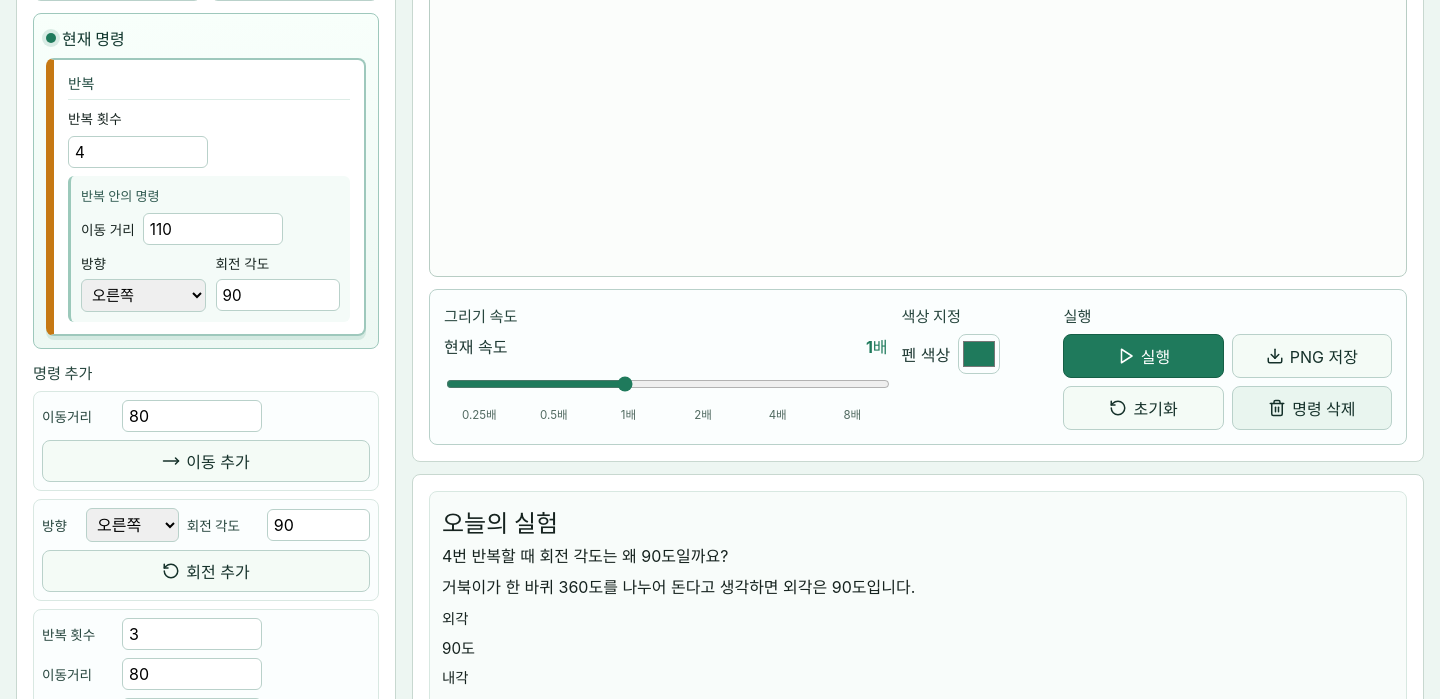
it: App › places the color command before drawing commands when the pen color changes
(page scrolled)
In the colour field labelled "펜 색상": (979, 354) 958,334 -> 1000,374, type "#d94f30"
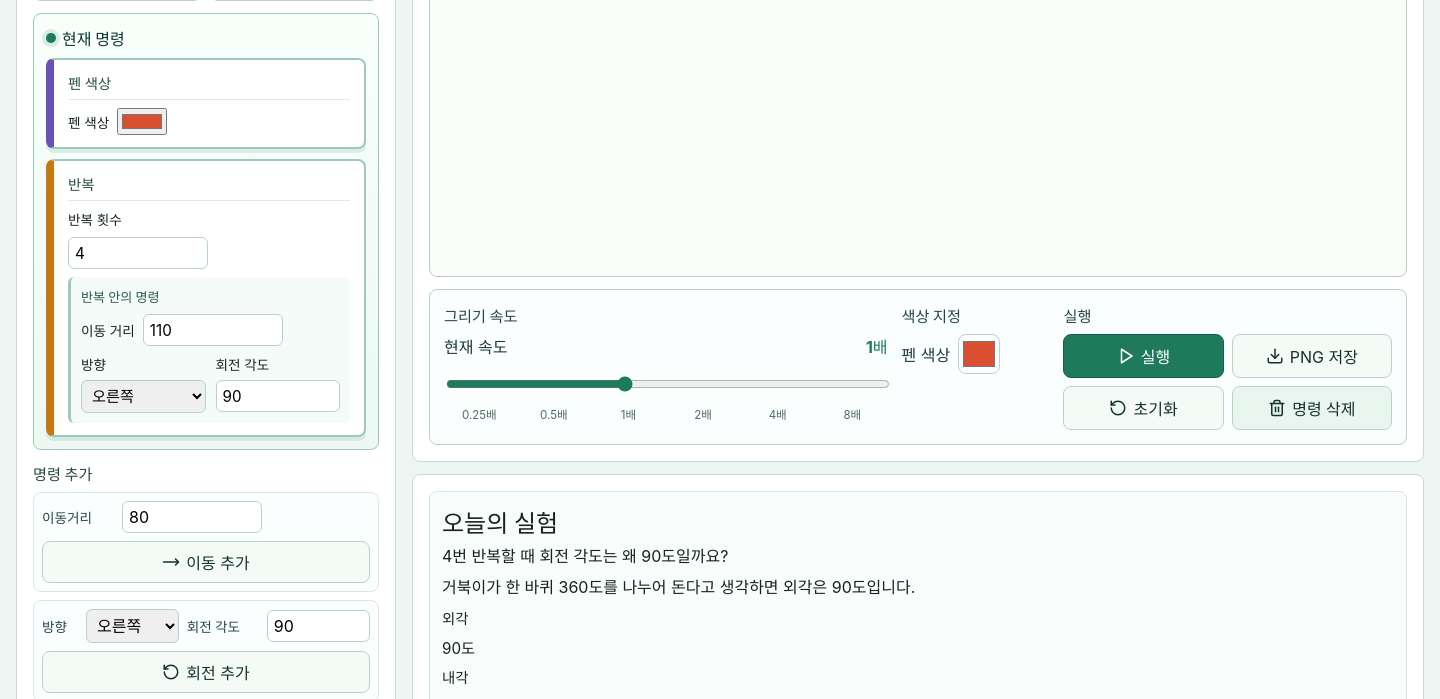
Expected: the list item "반복 반복 횟수 반복 안의 명령 이동 거리 방향 회전 각도" is shown, 46,159 -> 366,437
Expected: the number of list items is 2, 46,58 -> 366,149; 46,159 -> 366,437
Expected: the list item "펜 색상 펜 색상" is shown, 46,58 -> 366,149
